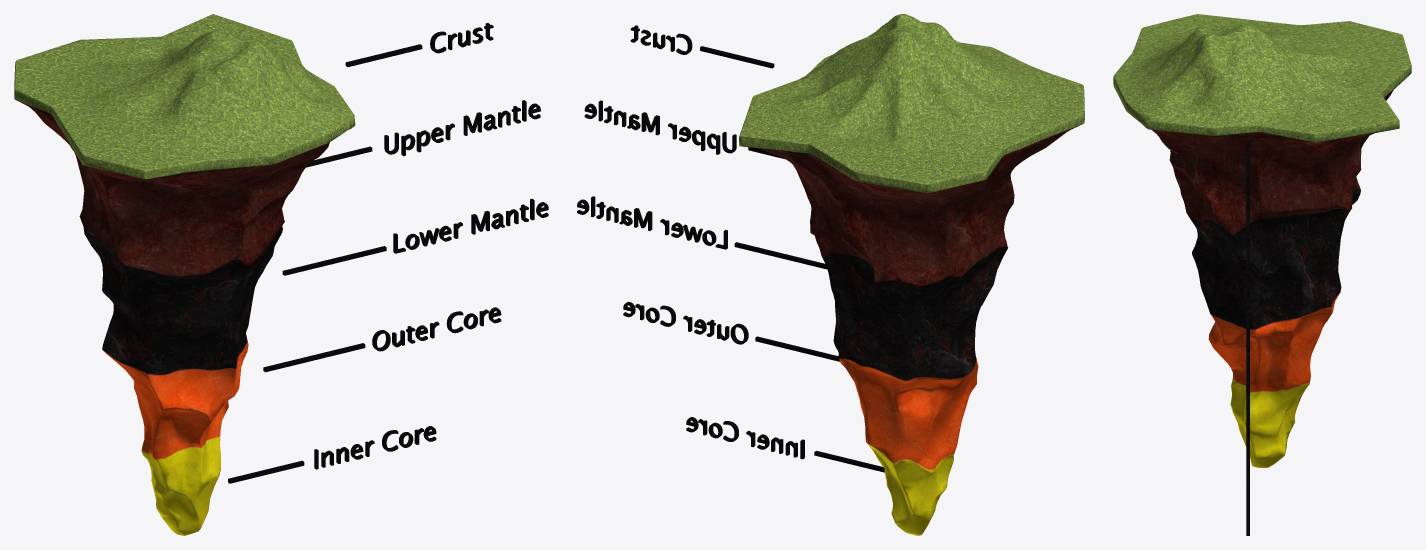
Rendered from Earth layers.glb.
3 views of the same model, side by side, from view 1: azimuth 30°, elevation 25°; view 2: azimuth 150°, elevation 25°; view 3: azimuth 270°, elevation 25° (orthographic). The views are drawn at different scales.
Parts seen in each view (by area): view 1: pCube1, polySurface46; view 2: pCube1, polySurface46; view 3: pCube1, polySurface46.
Part boxes in pixels (x1,y1,x2,y2): pCube1: (14, 14, 355, 535); polySurface46: (228, 23, 548, 483); pCube1: (739, 14, 1084, 535); polySurface46: (577, 25, 884, 472); pCube1: (1113, 14, 1411, 467); polySurface46: (1246, 141, 1249, 535).
Bounding box in the file's own units: 0.231 × 0.2257 × 0.1351.
Materials: 2 (1 with a texture image).
